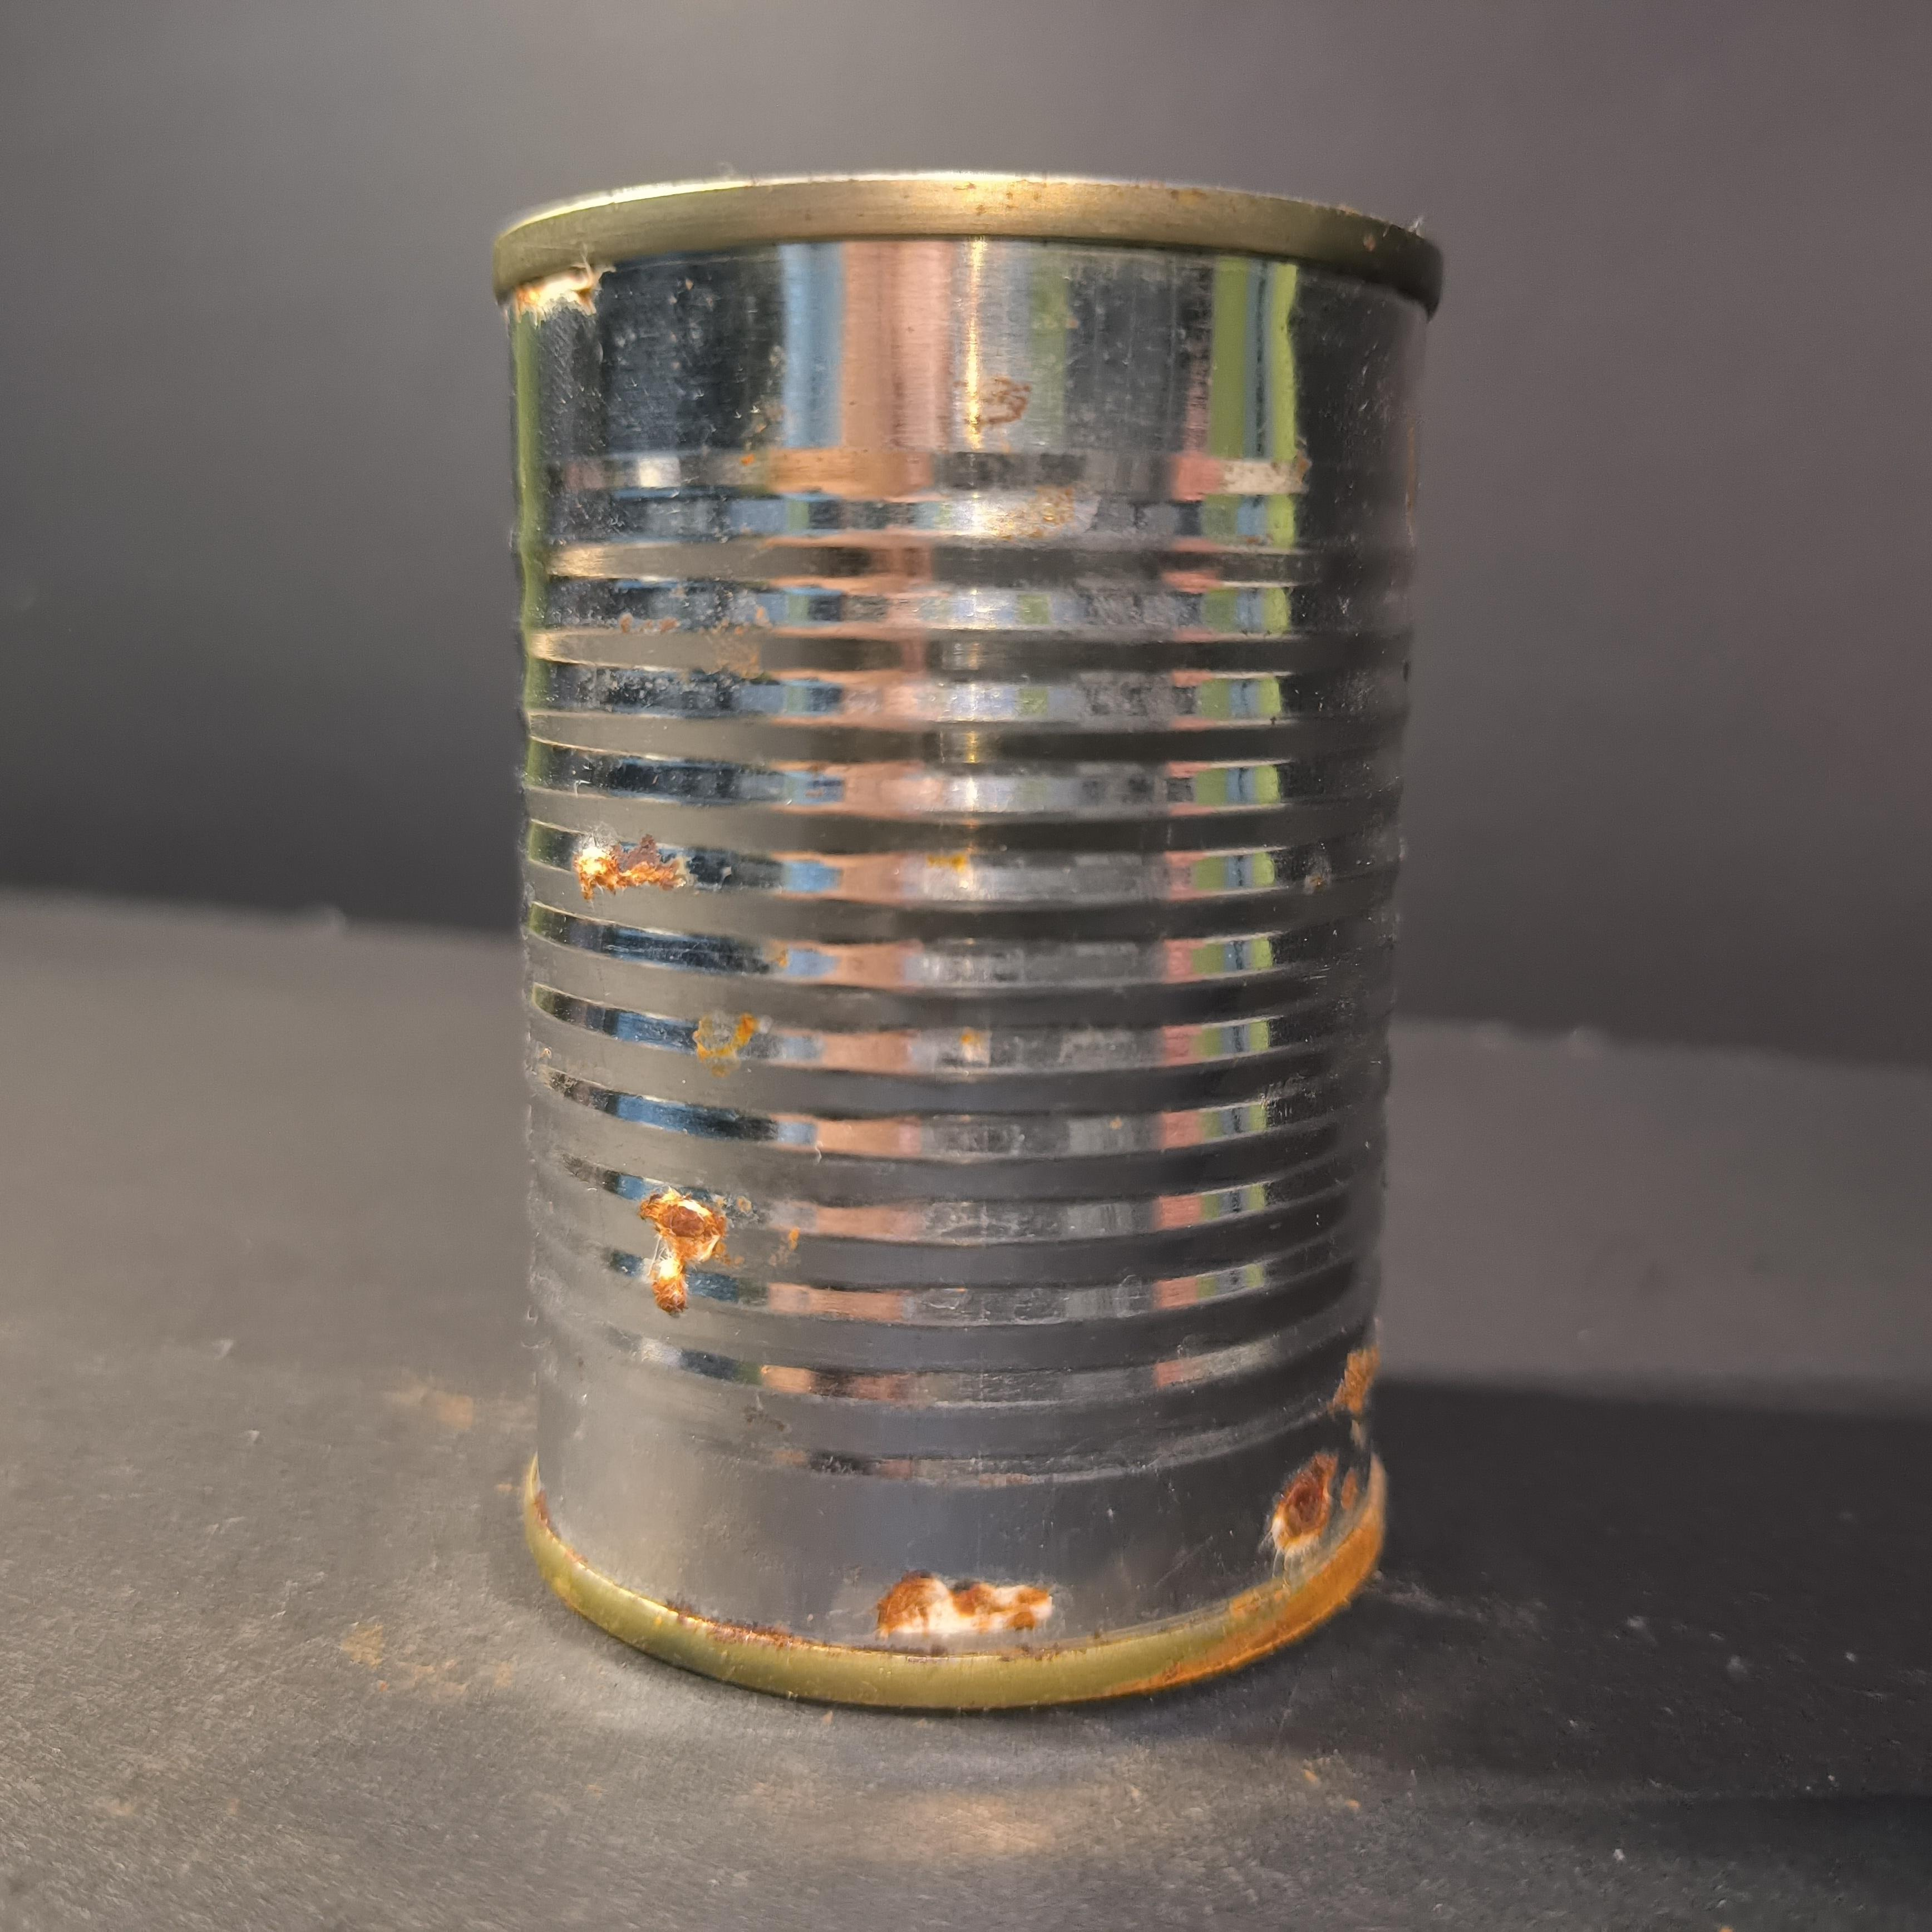Rusted: (467, 142, 1424, 1730)
